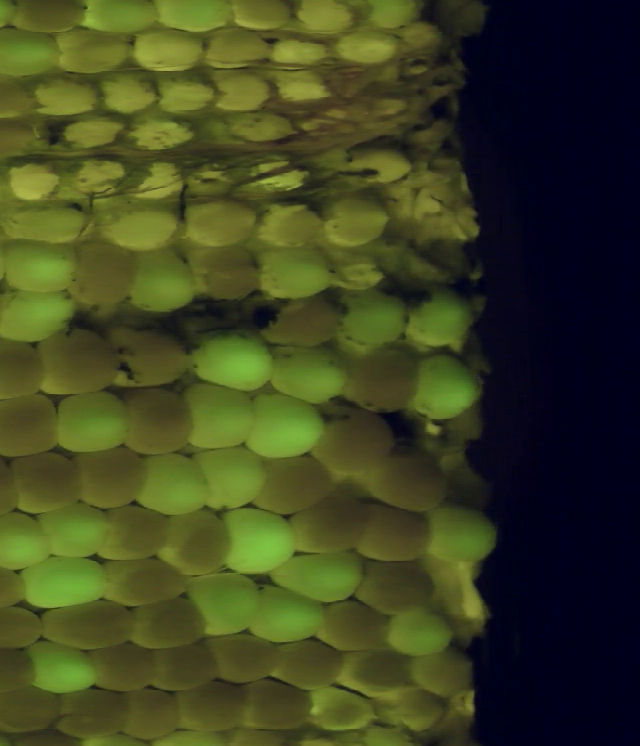fluorescent: (184, 322, 281, 392), (176, 378, 260, 458), (180, 565, 265, 642), (186, 440, 274, 514), (218, 503, 300, 580), (15, 552, 114, 615), (263, 339, 353, 407), (243, 391, 330, 460), (241, 583, 331, 649), (266, 550, 365, 610), (133, 447, 214, 519), (49, 388, 133, 457), (409, 348, 485, 424), (422, 498, 502, 569), (123, 241, 193, 320), (0, 234, 88, 295), (405, 279, 481, 349), (34, 501, 119, 563), (0, 285, 83, 348), (340, 284, 416, 350), (255, 245, 340, 302), (20, 637, 102, 696), (380, 601, 458, 659), (0, 506, 56, 575), (0, 21, 68, 76), (74, 1, 166, 39), (151, 1, 242, 34), (359, 1, 431, 32)
nonfluorescent: (305, 395, 400, 479), (244, 446, 347, 523), (335, 339, 428, 418), (101, 316, 196, 392), (345, 494, 437, 569), (34, 594, 145, 656), (35, 325, 125, 401), (283, 488, 374, 562), (115, 382, 204, 457), (366, 443, 455, 516), (155, 505, 235, 581), (232, 673, 323, 739), (67, 441, 154, 510), (95, 551, 195, 611), (3, 447, 85, 519), (355, 550, 439, 620), (198, 623, 288, 688), (66, 237, 141, 314), (254, 292, 347, 354), (167, 676, 255, 739), (91, 500, 175, 563), (178, 191, 263, 253), (128, 595, 215, 655), (50, 682, 138, 741), (309, 595, 395, 653), (264, 634, 349, 691), (116, 681, 189, 746), (0, 389, 64, 462), (85, 638, 162, 698), (193, 242, 265, 305), (337, 641, 415, 699), (410, 642, 482, 701), (144, 640, 224, 692), (195, 27, 281, 72), (0, 682, 70, 737), (384, 683, 452, 733), (0, 336, 52, 401), (3, 1, 86, 38), (0, 603, 52, 654), (0, 643, 44, 698), (227, 1, 297, 34), (0, 70, 41, 125), (0, 115, 44, 164), (0, 560, 32, 615)
